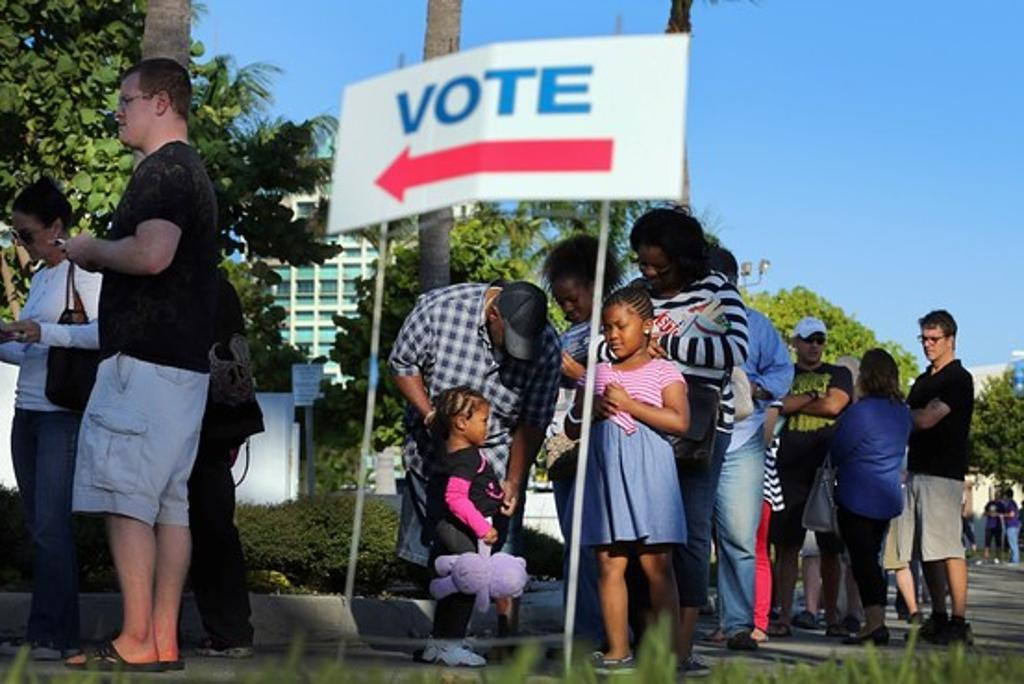face: (116, 77, 152, 144), (603, 305, 642, 358), (14, 208, 45, 259), (557, 273, 591, 319), (641, 246, 672, 290), (468, 403, 488, 446), (800, 329, 822, 363), (923, 324, 945, 358), (996, 494, 1000, 499), (1005, 494, 1008, 499)
